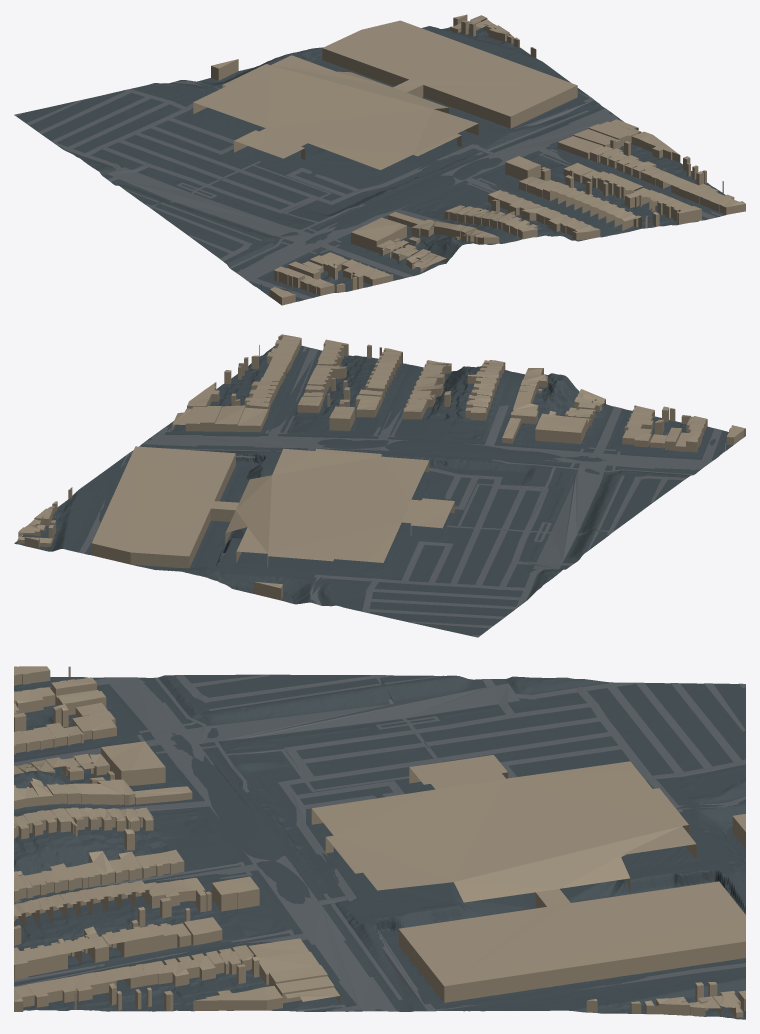
The model's file is epsg26910-1435-10868.lod0.glb.
3 views of the same model, one above another, from view 1: azimuth 30°, elevation 25°; view 2: azimuth 150°, elevation 25°; view 3: azimuth 270°, elevation 25° (orthographic). The views are drawn at different scales.
Visible parts, largest first — view 1: epsg26910-1435-10868-lod0; view 2: epsg26910-1435-10868-lod0; view 3: epsg26910-1435-10868-lod0.
Part boxes in pixels (left/top/right/bottom): epsg26910-1435-10868-lod0: left=14, top=14, right=745, bottom=305; epsg26910-1435-10868-lod0: left=14, top=334, right=745, bottom=637; epsg26910-1435-10868-lod0: left=14, top=666, right=745, bottom=1019.
Size of the model in its own units: 384 by 34.7 by 384.
